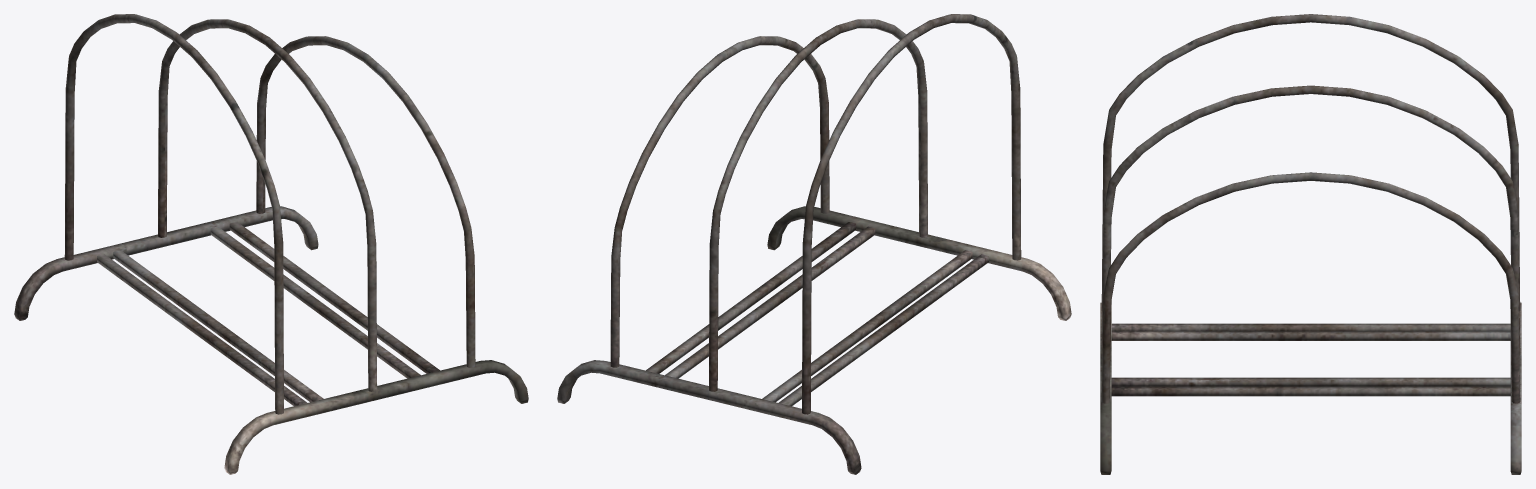
Rendered from folderHolder.FBX.
The picture shows the model from 3 angles, left to right: view 1: azimuth 30°, elevation 25°; view 2: azimuth 150°, elevation 25°; view 3: azimuth 270°, elevation 25°; orthographic projection. The views are drawn at different scales.
Visible parts, largest first — view 1: SM_FolderHolder; view 2: SM_FolderHolder; view 3: SM_FolderHolder.
Part boxes in pixels (x1=…): SM_FolderHolder: x1=14, y1=14, x2=528, y2=474; SM_FolderHolder: x1=557, y1=14, x2=1071, y2=474; SM_FolderHolder: x1=1100, y1=14, x2=1521, y2=474.
Bounding box in the file's own units: 19.55 × 22.03 × 24.49.
1 material, 1 textured.
